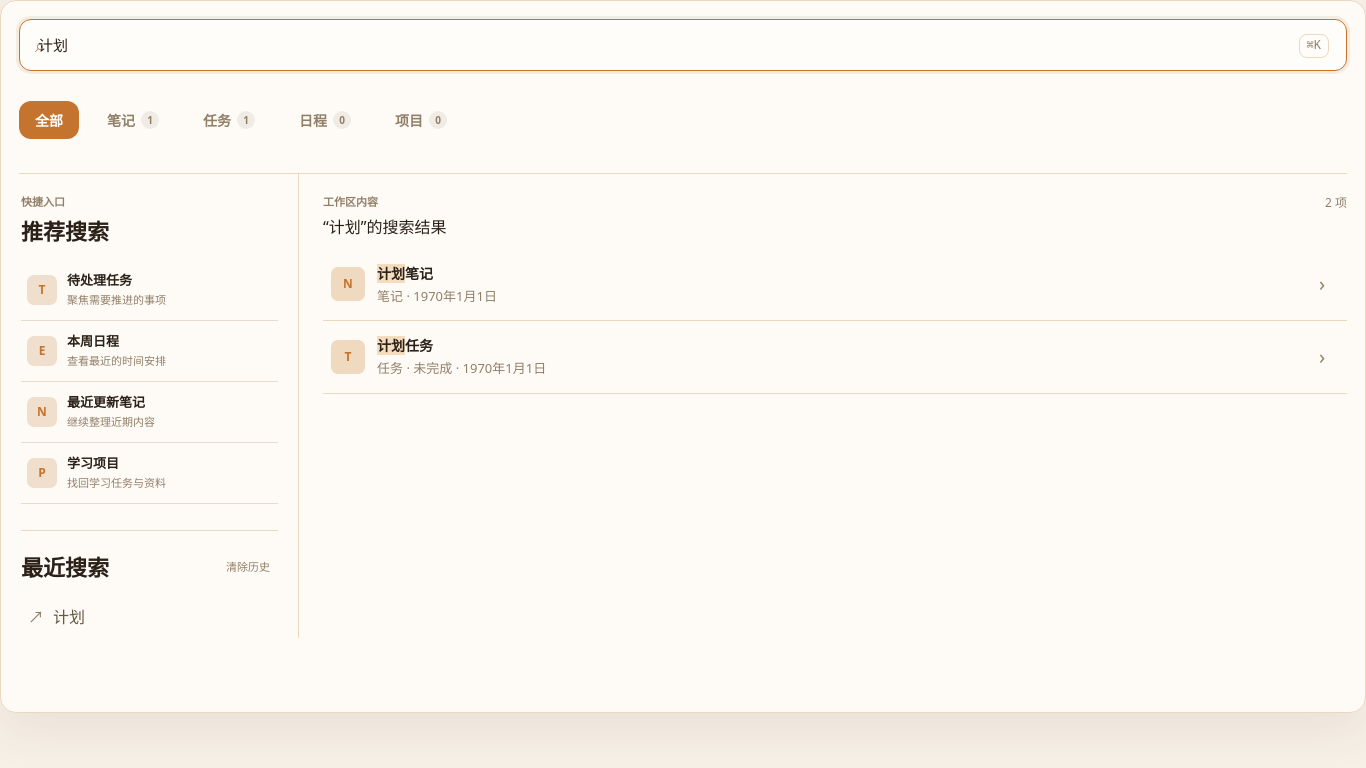
Search workspace › filters results by content type
expect the button "N 计划笔记 笔记 · 1970年1月1日 ›" is shown: met, box [323,248,1347,321]
expect the button "T 计划任务 任务 · 未完成 · 1970年1月1日 ›" is shown: met, box [323,321,1347,394]
Click the tab "任务 1".
click(229, 120)  # box [187,101,271,139]
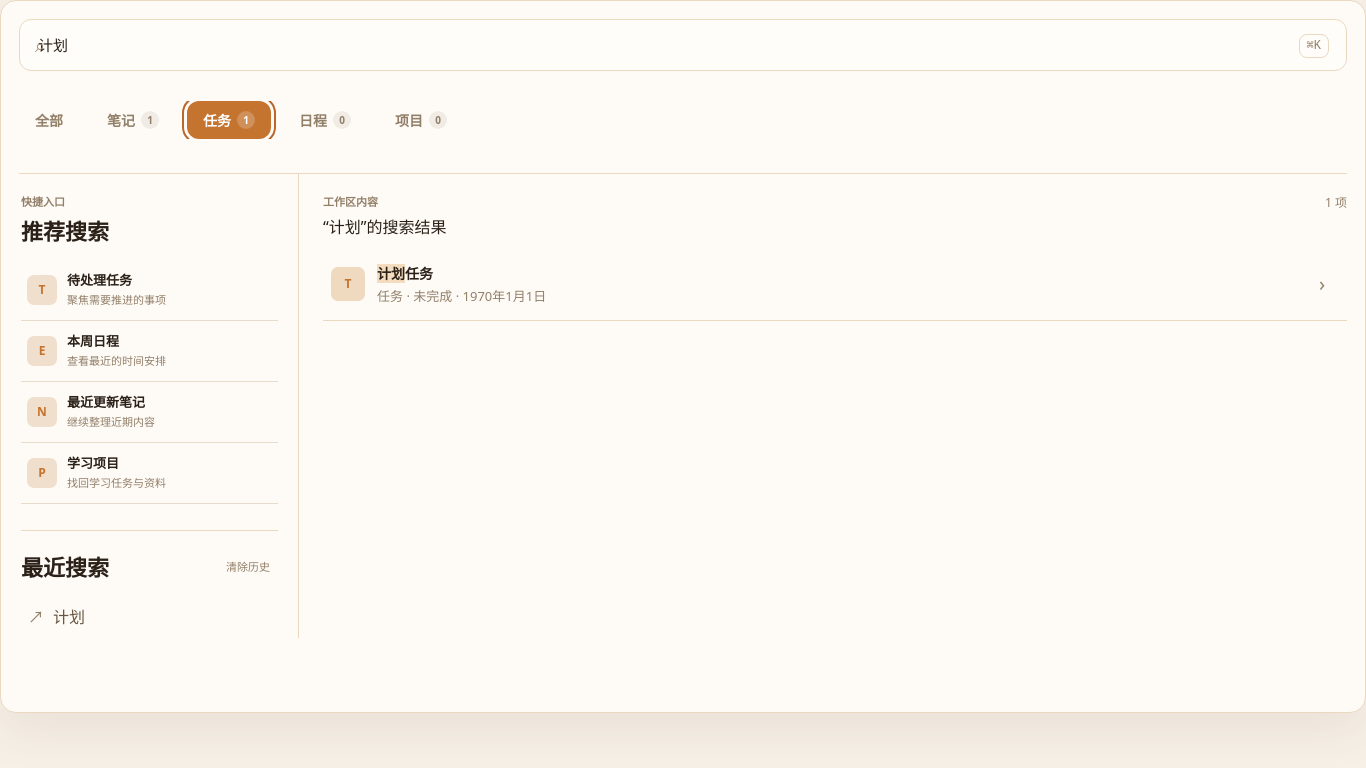
expect the button "T 计划任务 任务 · 未完成 · 1970年1月1日 ›" is shown: met, box [323,248,1347,321]
expect the button "计划笔记" is gone: met
